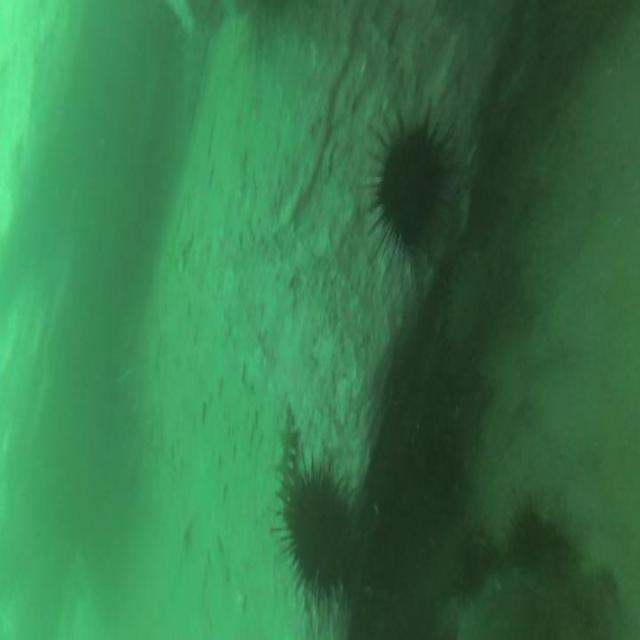echinus: (379, 126, 445, 252), (283, 477, 353, 594), (455, 530, 487, 594), (509, 515, 543, 566)
holothurian: (274, 408, 297, 492)
